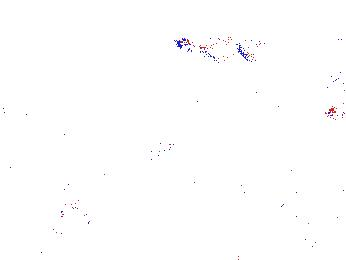glassfish: (56, 134, 177, 188)
redtail glassfish: (173, 35, 255, 60)
